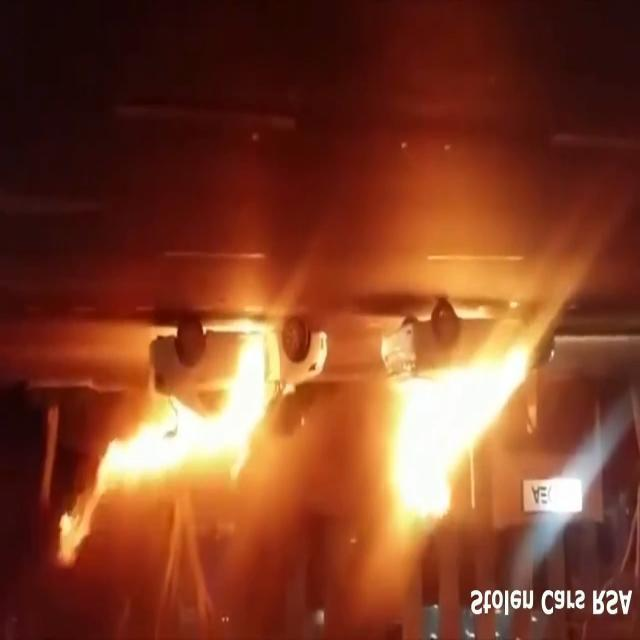fire: (50, 374, 284, 566), (388, 350, 531, 538)
